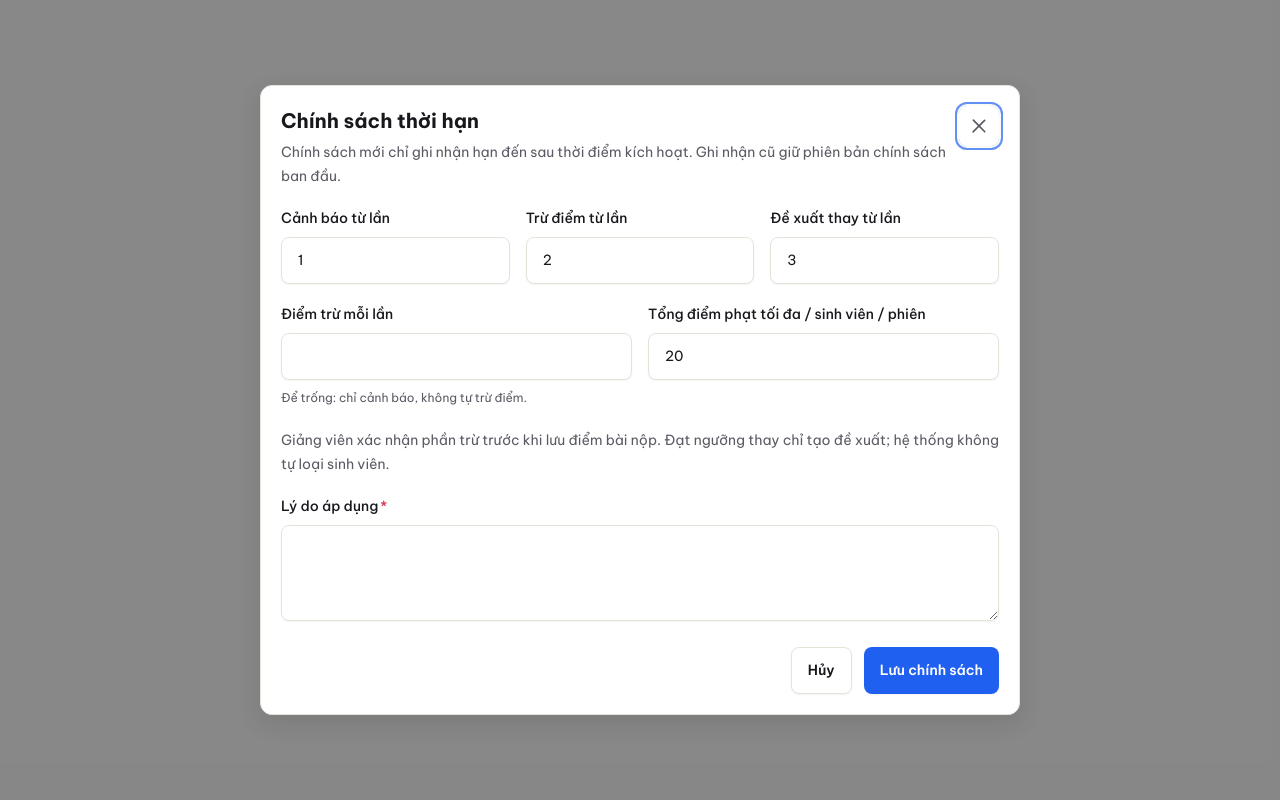
Test case: participation evidence › rejects unordered thresholds before submitting
Replace the text in the number field labelled "Cảnh báo từ lần" with "4" at [395, 260], box [281,237,510,284]
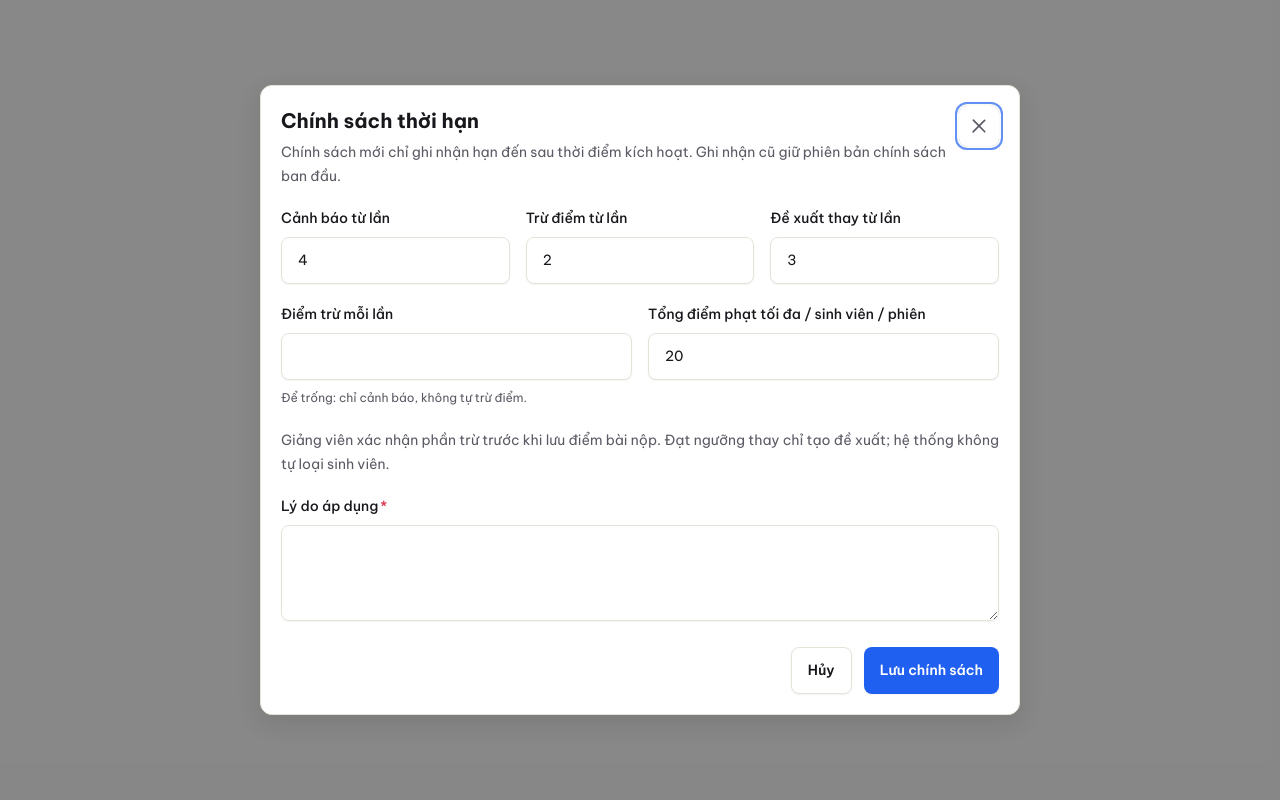
Type "Áp dụng cho đợt thực tập mới" into the text box labelled "Lý do áp dụng" at [640, 573], box [281,525,999,621]
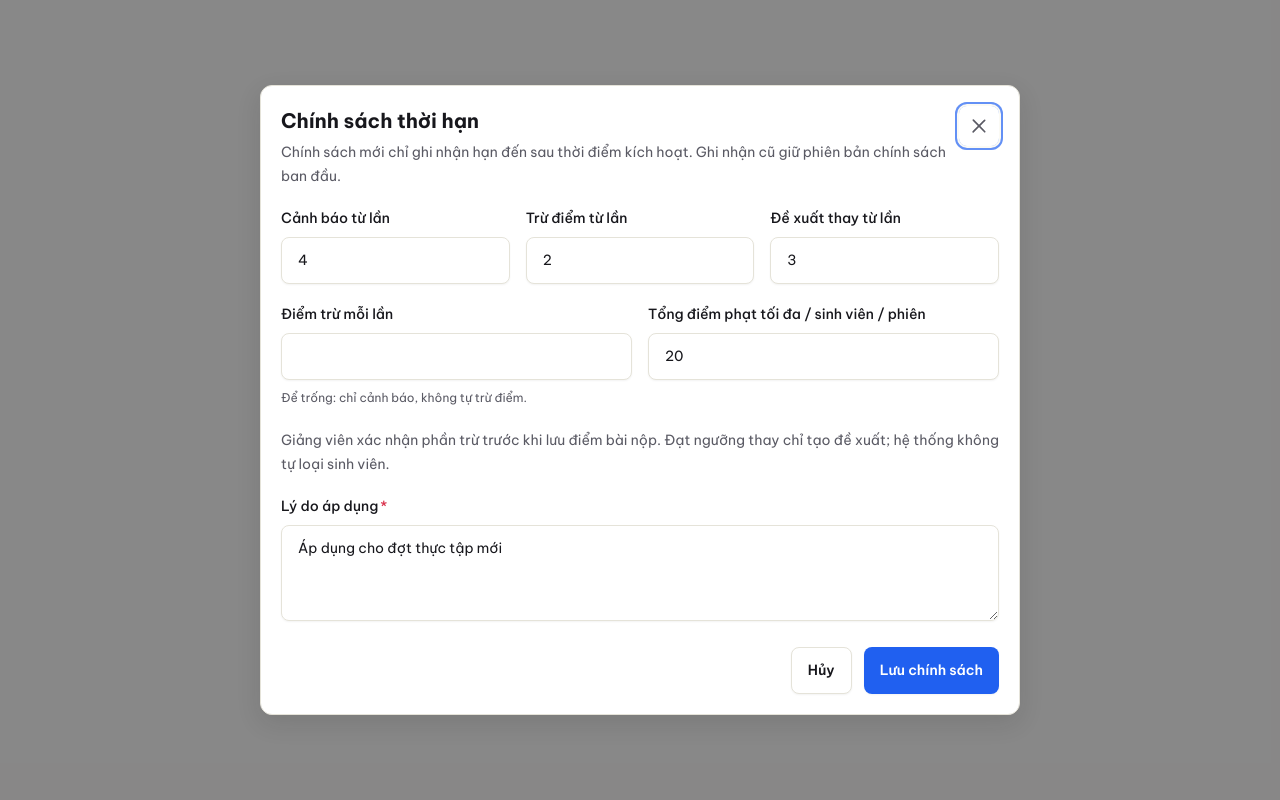
Click the button "Lưu chính sách" at [931, 670], box [864,647,999,694]
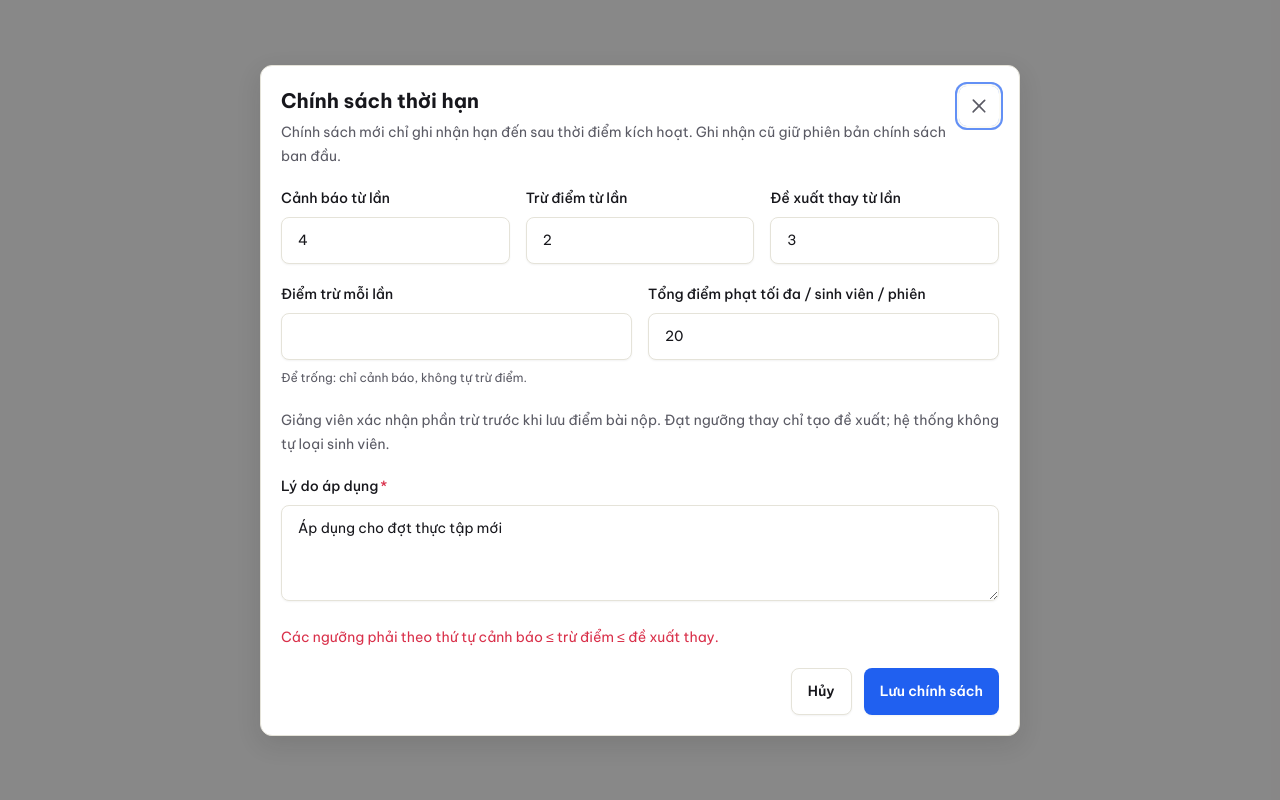
Now the message shows "theo thứ tự", box [281,628,719,646]
